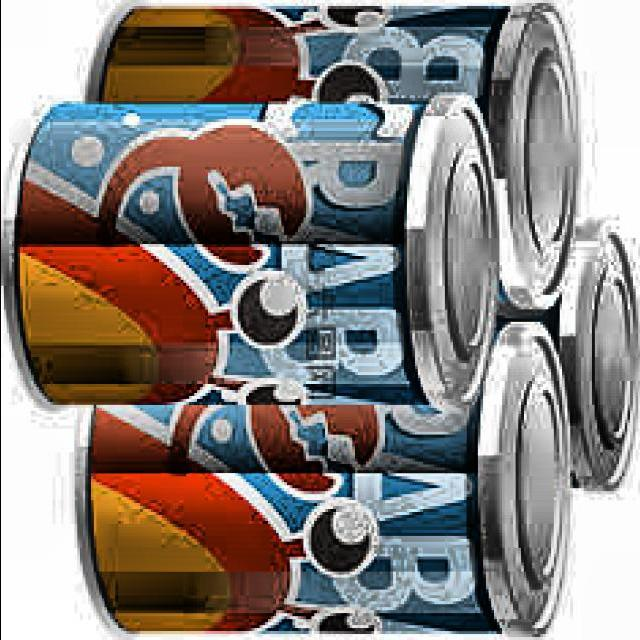Aluminum Can: (62, 318, 575, 640), (6, 90, 508, 418), (79, 4, 584, 320), (486, 218, 637, 499)
